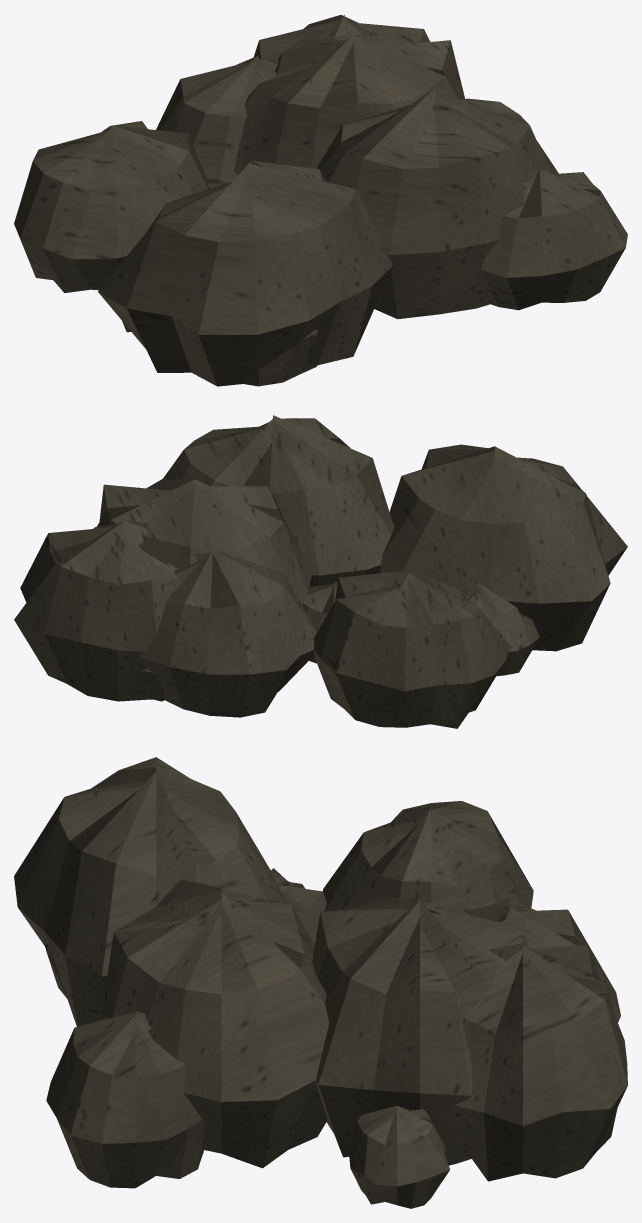
File: PROP-10F3F5166282_lod0.glb
3 views of the same model, one above another, from view 1: azimuth 30°, elevation 25°; view 2: azimuth 150°, elevation 25°; view 3: azimuth 270°, elevation 25° (orthographic). The views are drawn at different scales.
Parts seen in each view (by area): view 1: rock.003; view 2: rock.003; view 3: rock.003.
Boxes of the visible parts, <box> form: rock.003: <box>14,15,627,386</box>; rock.003: <box>14,415,627,728</box>; rock.003: <box>14,757,627,1208</box>.
Bounding box in the file's own units: 1.29 × 0.4549 × 1.11.
1 material, 1 textured.
